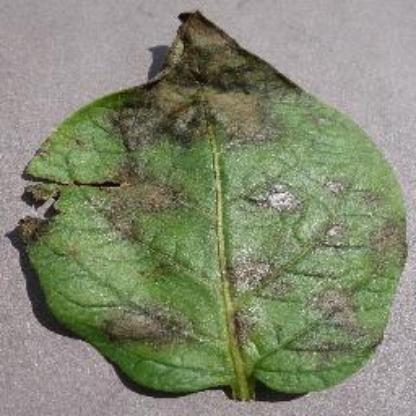Late-Blight: (19, 12, 405, 402)
